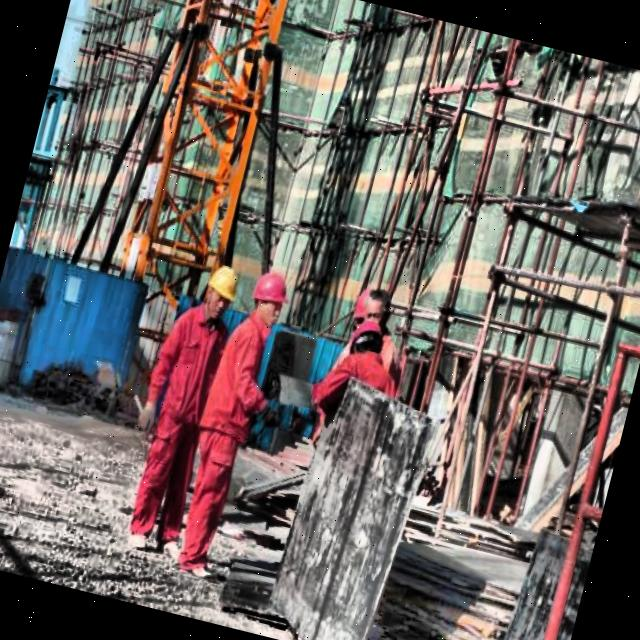helmet: (244, 266, 292, 328), (198, 258, 244, 322), (346, 317, 388, 362), (346, 286, 378, 330)
